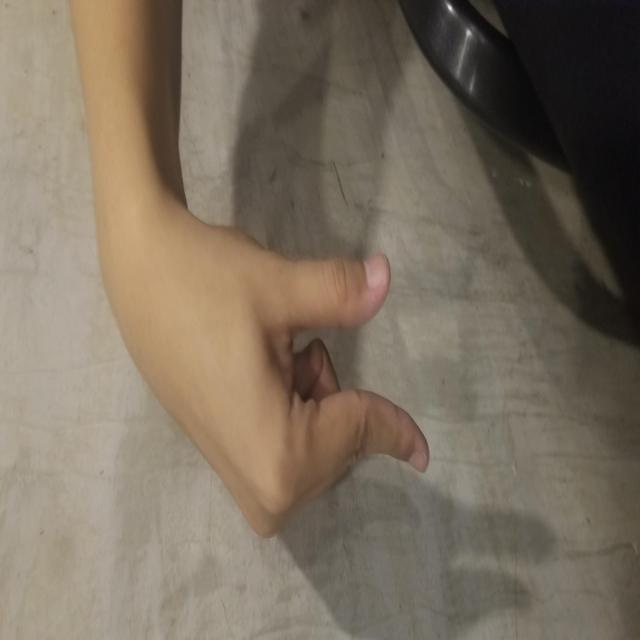Q: (100, 161, 420, 430)
